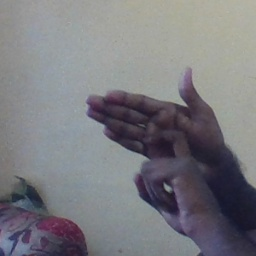R: (87, 61, 223, 222)
